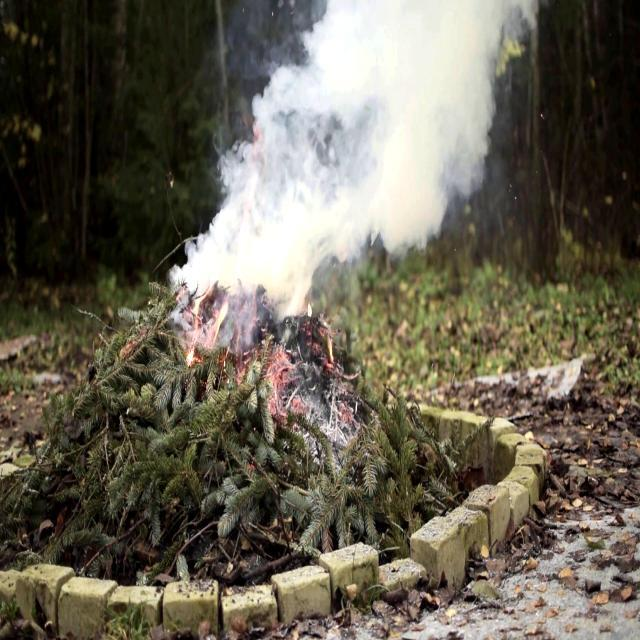Smoke: (197, 0, 546, 269)
